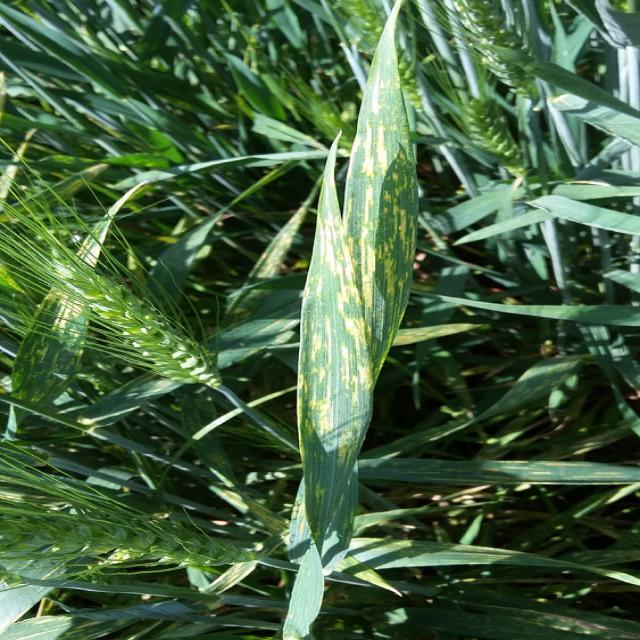Septoria: (292, 0, 420, 571)
